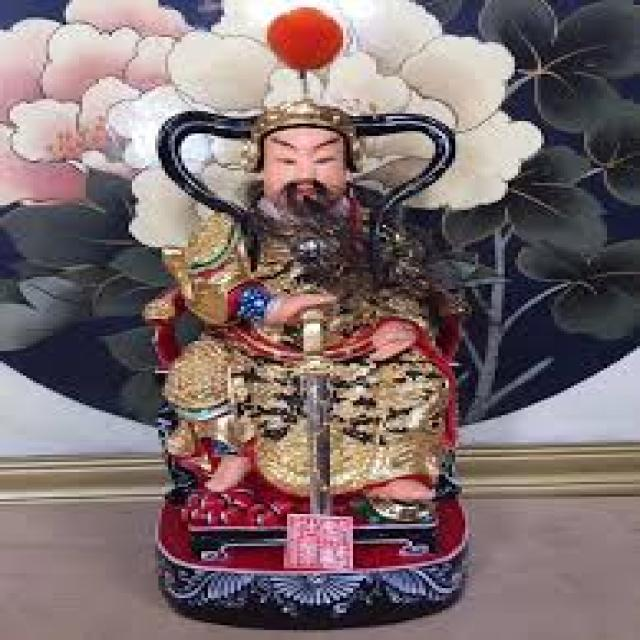Xuan wu: (138, 103, 474, 546)
